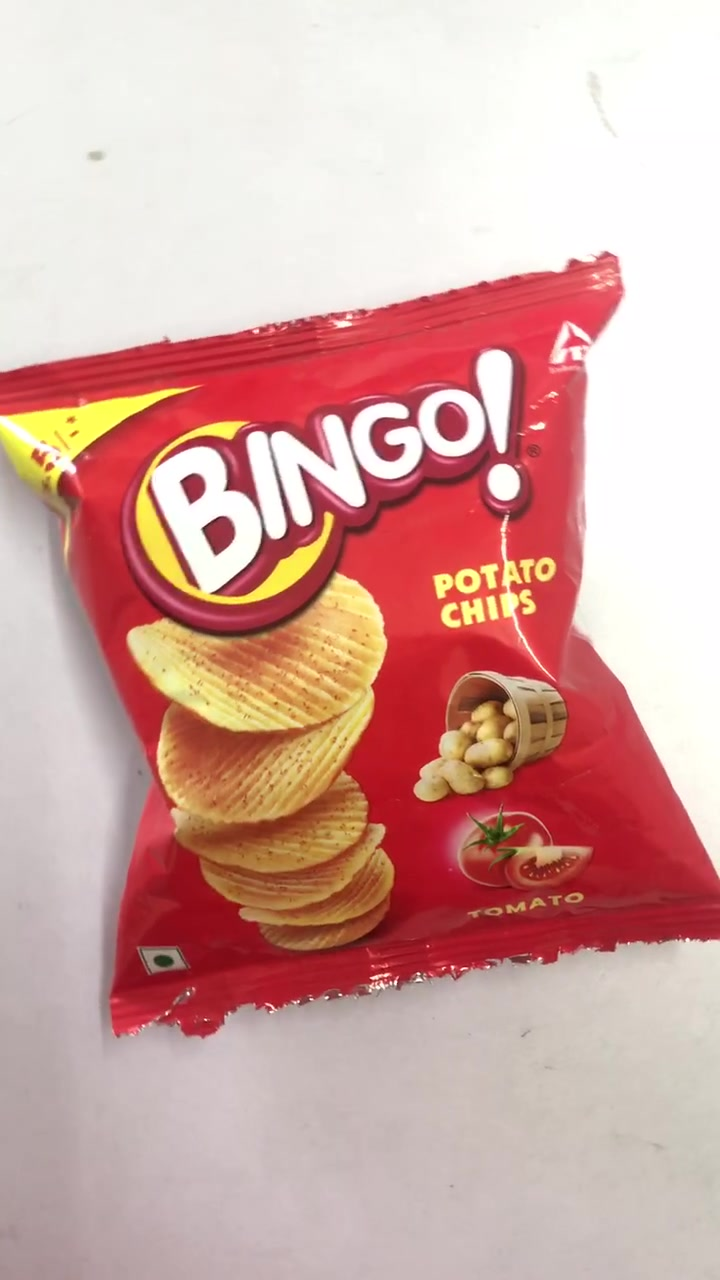Bingo: (2, 273, 712, 999)
